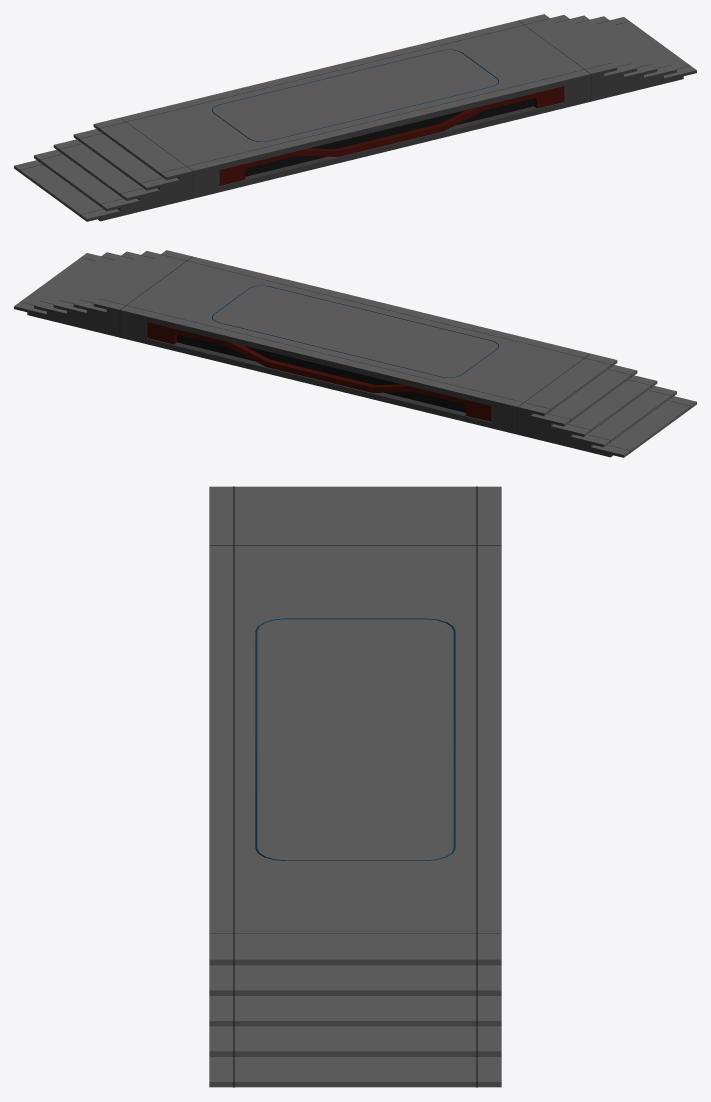
The model's file is W_O_Playground_Stair_001_L1.fbx.
3 views of the same model, one above another, from view 1: azimuth 30°, elevation 25°; view 2: azimuth 150°, elevation 25°; view 3: azimuth 270°, elevation 25° (orthographic). The views are drawn at different scales.
Visible parts, largest first — view 1: W_O_Playground_Stair_001_L1; view 2: W_O_Playground_Stair_001_L1; view 3: W_O_Playground_Stair_001_L1.
Part boxes in pixels (bbox=[...]): W_O_Playground_Stair_001_L1: bbox=[14, 14, 696, 221]; W_O_Playground_Stair_001_L1: bbox=[14, 250, 696, 457]; W_O_Playground_Stair_001_L1: bbox=[209, 486, 501, 1087].
Size of the model in its own units: 23 by 1 by 4.77.
